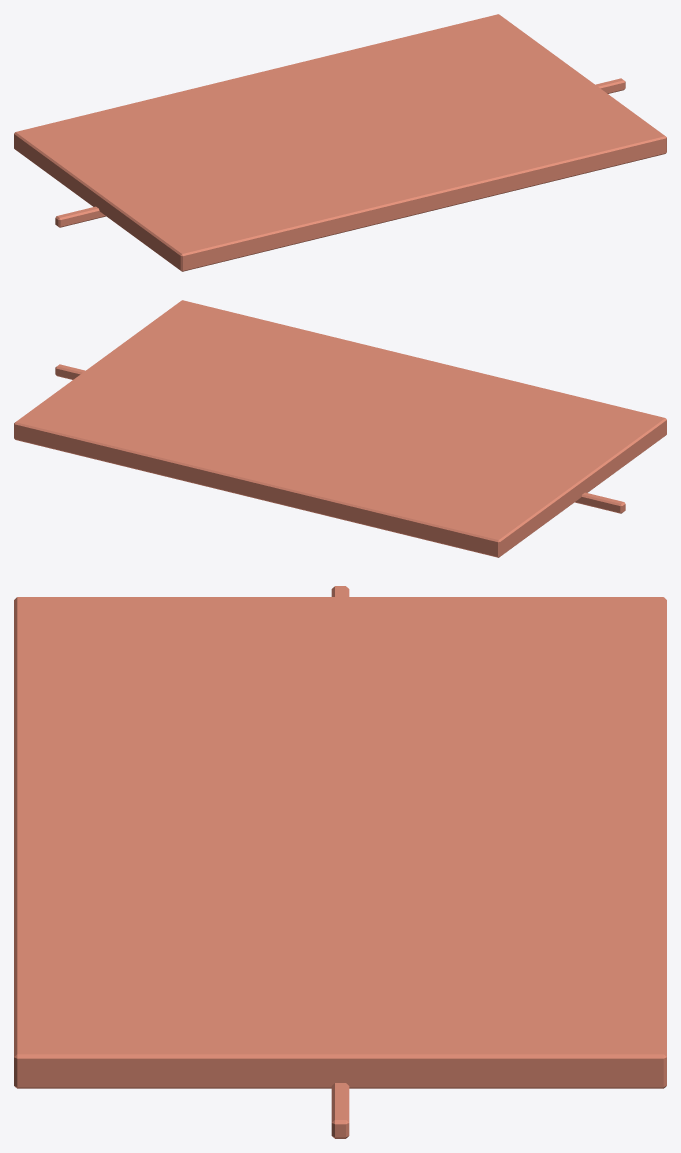
The model's file is SM_Deck_10x0p35x6.glb.
3 renders of one model, top to bottom at view 1: azimuth 30°, elevation 25°; view 2: azimuth 150°, elevation 25°; view 3: azimuth 270°, elevation 25°, orthographic. The views are drawn at different scales.
Visible parts, largest first — view 1: SM_Deck_10x0p35x6; view 2: SM_Deck_10x0p35x6; view 3: SM_Deck_10x0p35x6.
Part boxes in pixels (x1,y1,x2,y2): SM_Deck_10x0p35x6: (14, 14, 666, 271); SM_Deck_10x0p35x6: (14, 300, 666, 557); SM_Deck_10x0p35x6: (14, 586, 666, 1138).
Bounding box in the file's own units: 11.67 × 0.4693 × 6.
